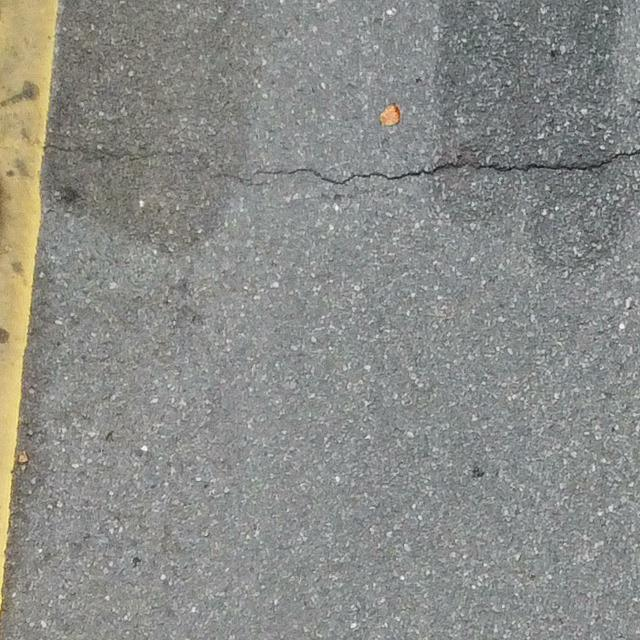TransverseCrack: (208, 148, 638, 189)
